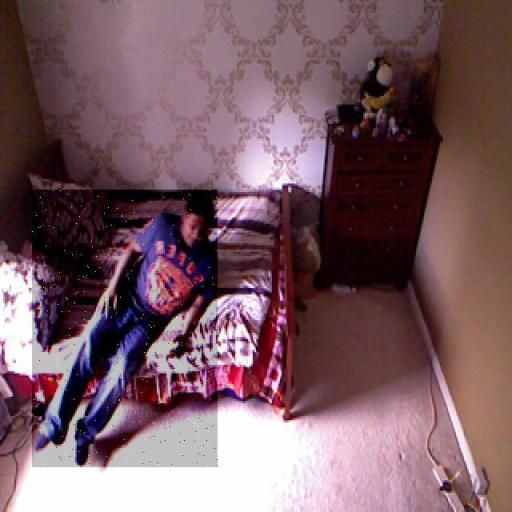Fall: (32, 190, 218, 467)
